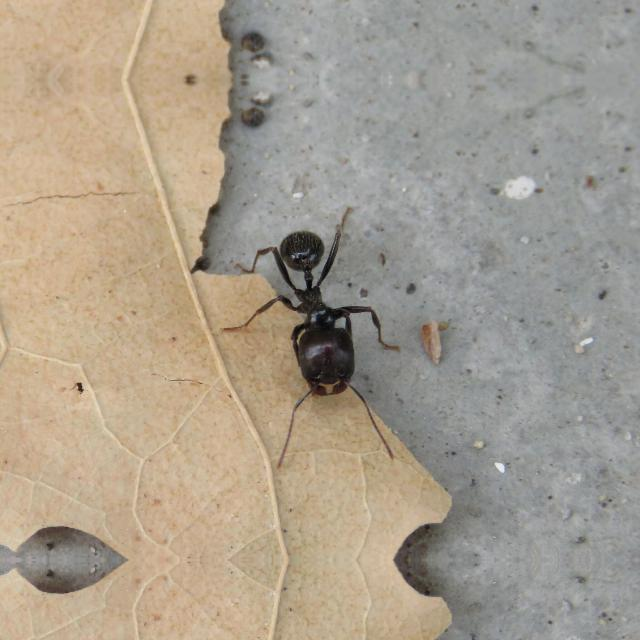Messor: (258, 202, 374, 396)
